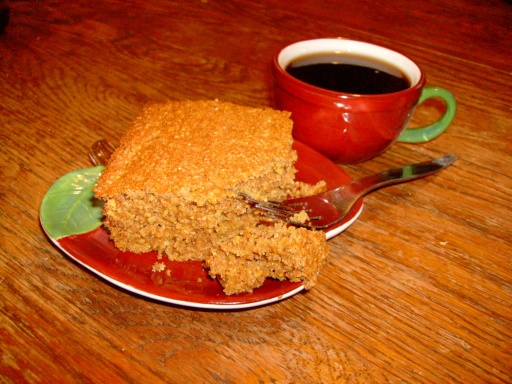background: (73, 59, 263, 176), (102, 26, 329, 56)
